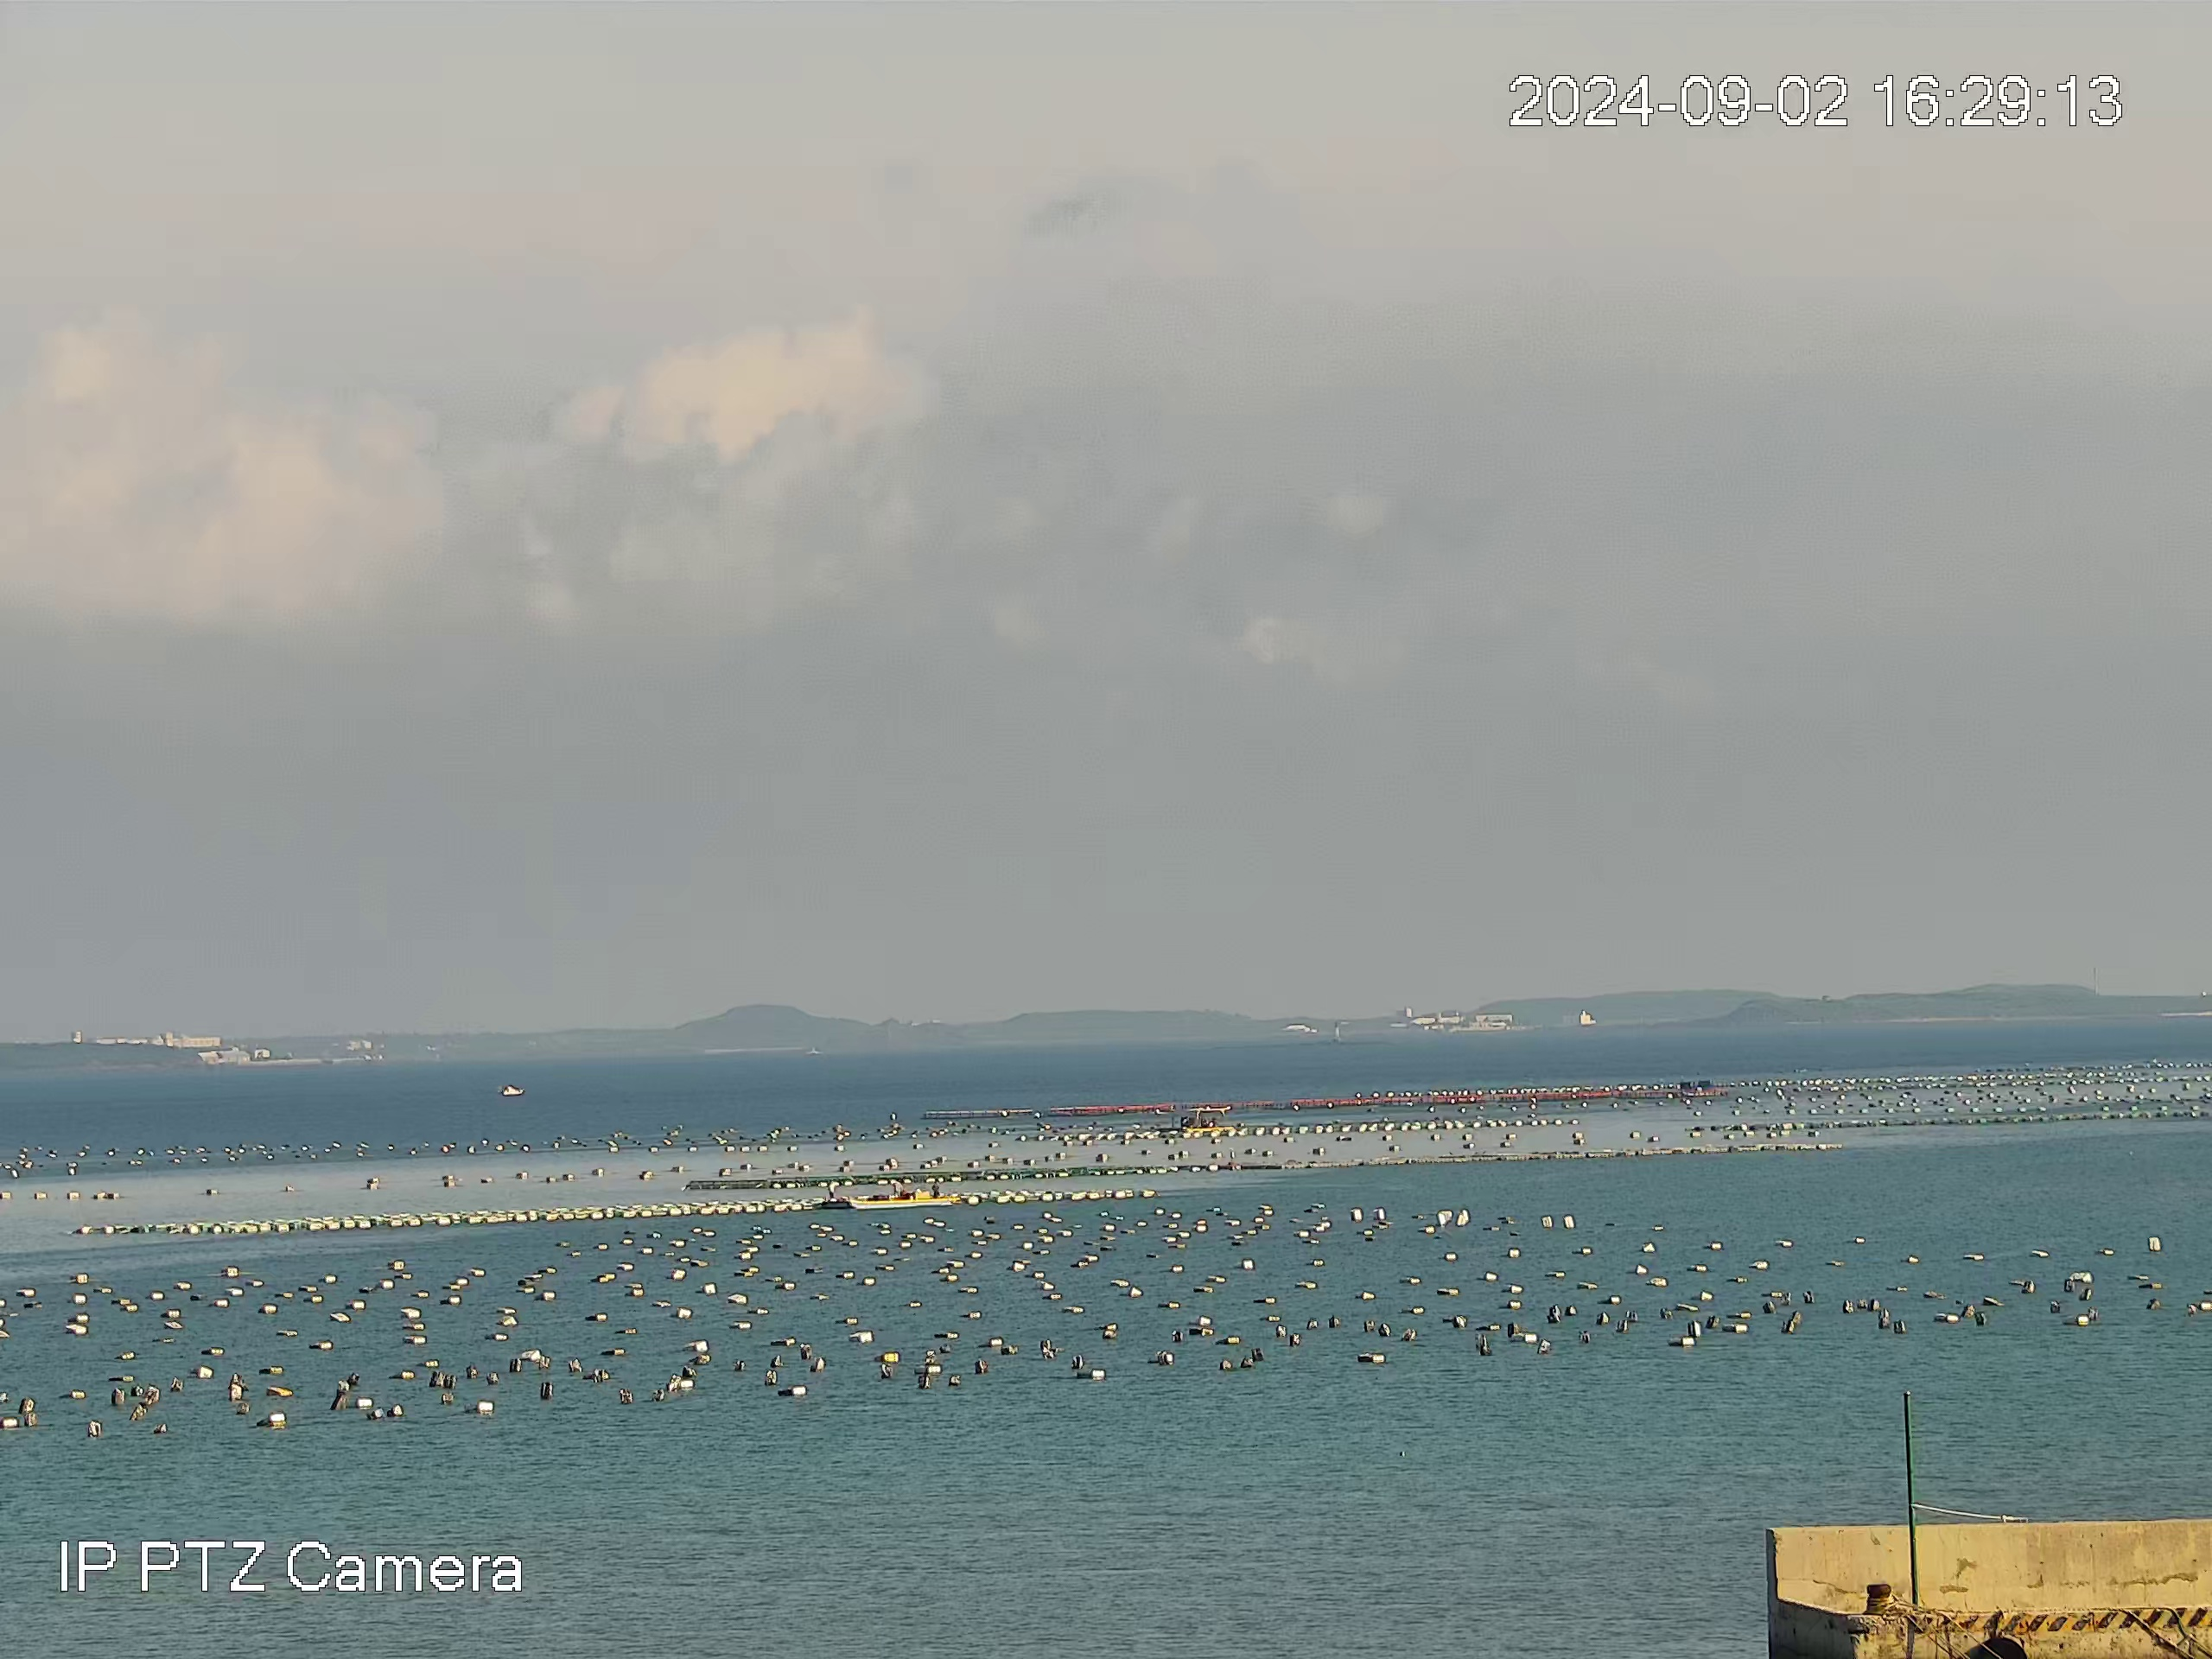boat: (845, 1176, 961, 1209), (1181, 1105, 1237, 1133), (500, 1084, 526, 1096)
